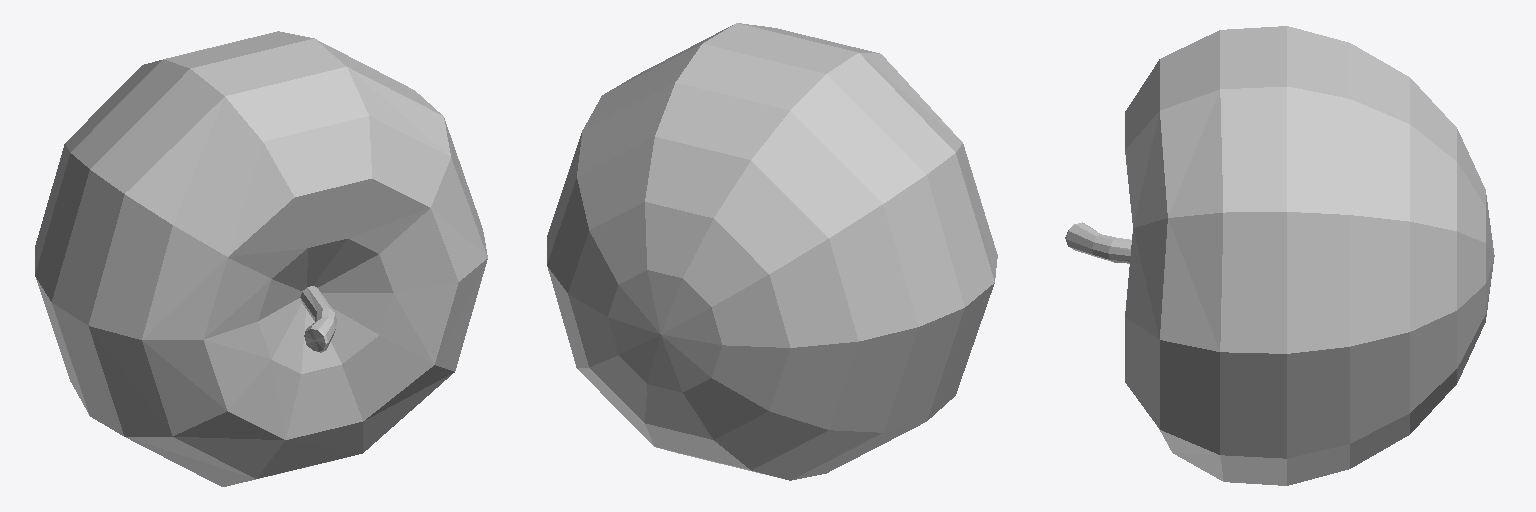
The model's file is Apple_01.obj.
3 renders of one model, left to right at view 1: azimuth 30°, elevation 25°; view 2: azimuth 150°, elevation 25°; view 3: azimuth 270°, elevation 25°, orthographic.
Visible parts, largest first — view 1: pasted__pSphere3 group; view 2: pasted__pSphere3 group; view 3: pasted__pSphere3 group.
Part boxes in pixels (x1,y1,x2,y2): pasted__pSphere3 group: (35,31,487,486); pasted__pSphere3 group: (547,23,997,480); pasted__pSphere3 group: (1065,26,1494,485).
Size of the model in its own units: 49.26 by 46.85 by 45.61.